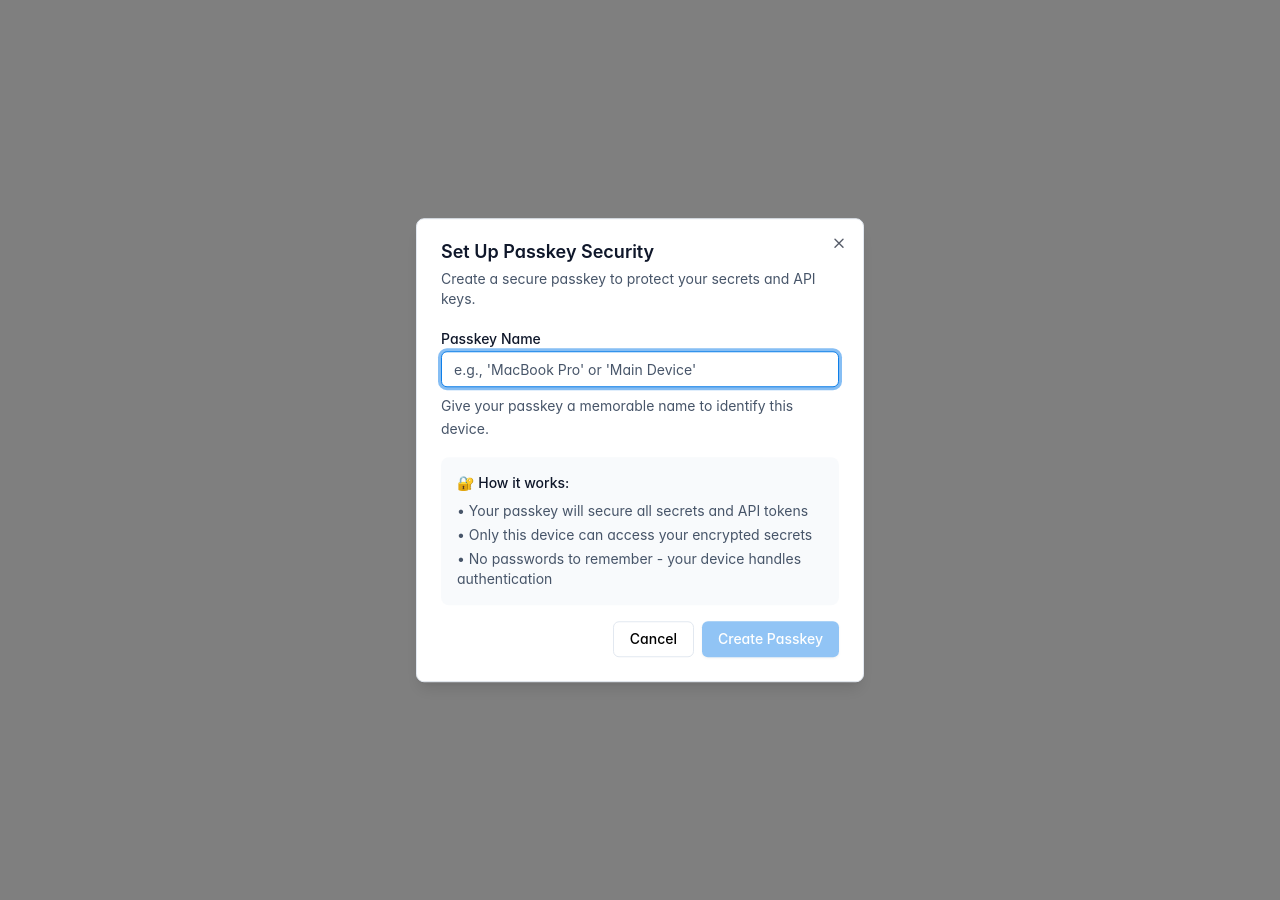
it: PasskeySetupModal › returns to the form with the store error when creation fails
Step 1. Type "Phone" into the field labelled "Passkey Name" → (640, 369), box [441, 351, 839, 387]
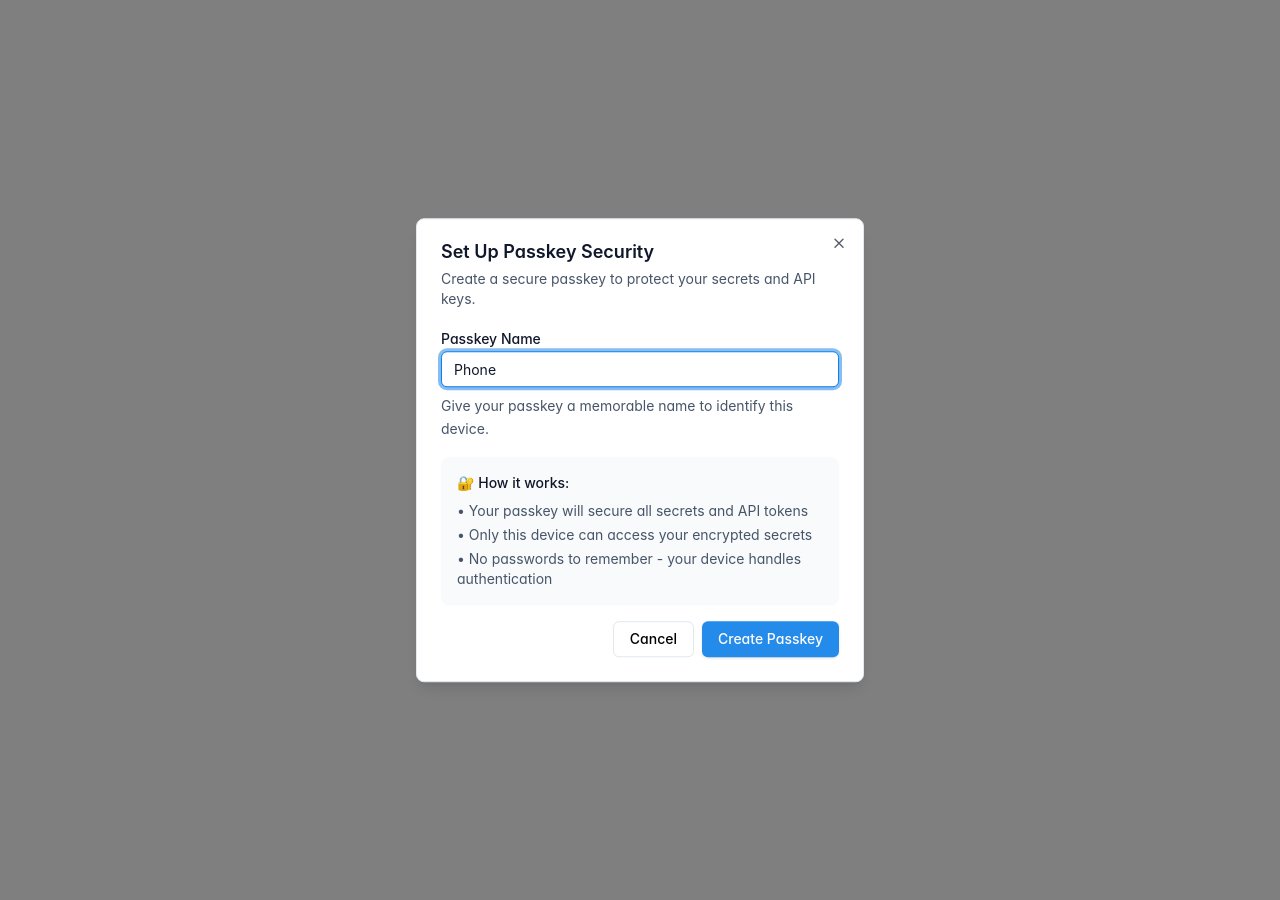
Step 2. Click the button "Create Passkey" → (770, 639), box [702, 621, 839, 657]
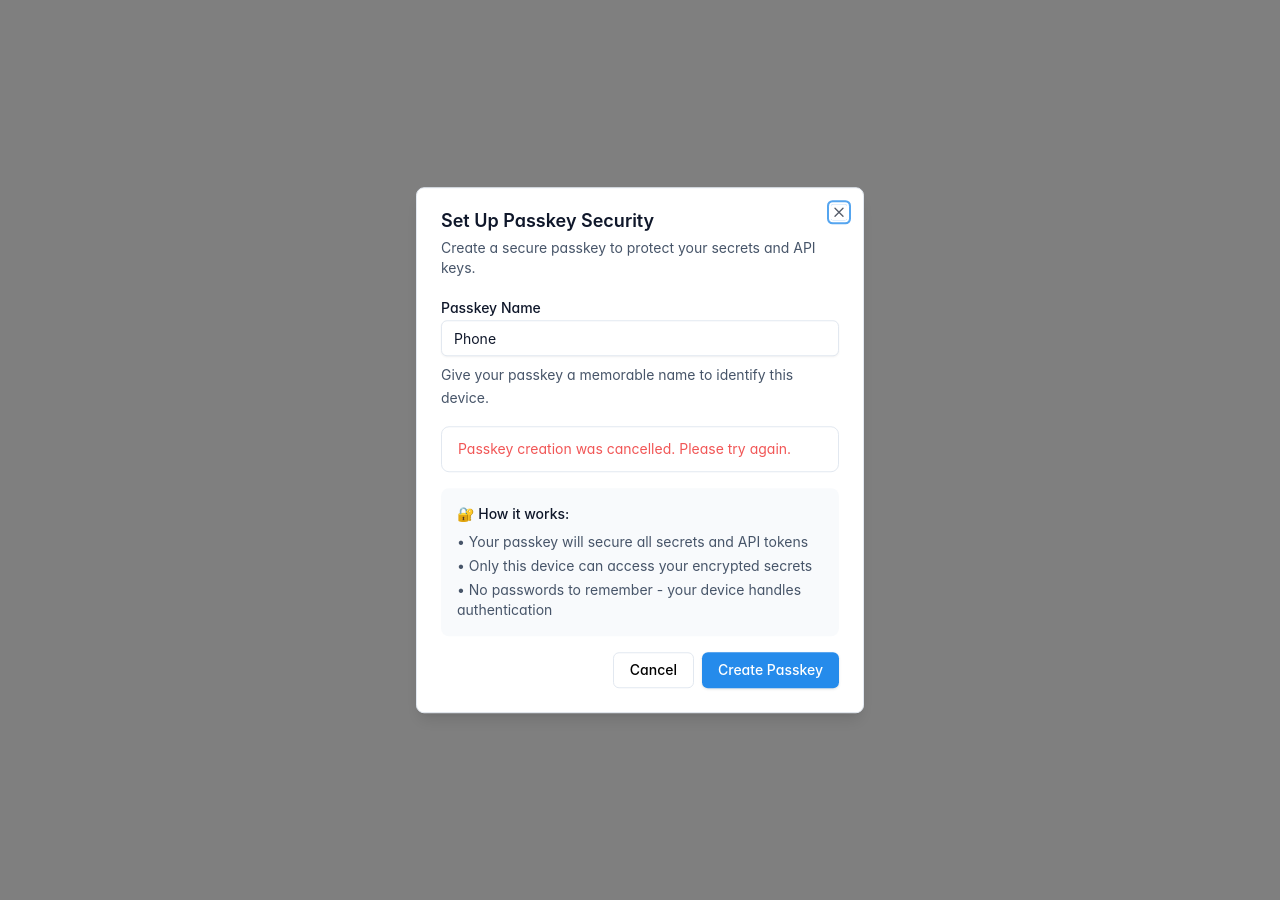
Check: the button "Create Passkey" is enabled, box [702, 652, 839, 688]
Check: the text "Passkey creation was cancelled. Please try again." is shown, box [458, 439, 822, 459]
